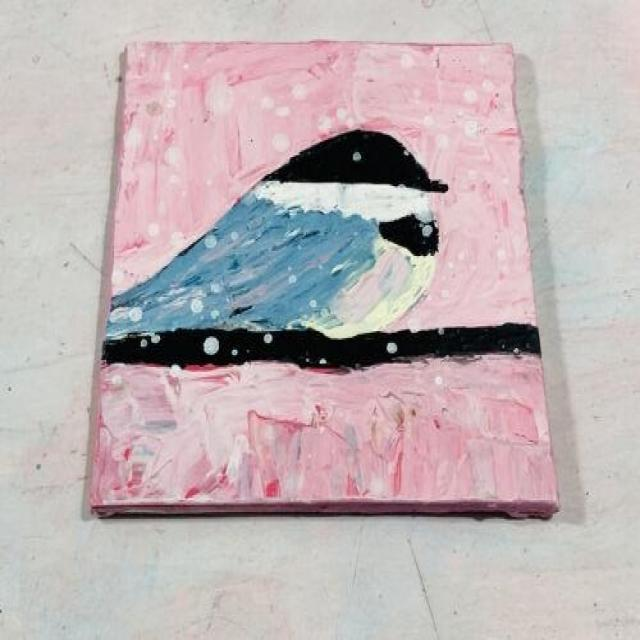painting: (90, 41, 554, 512)
